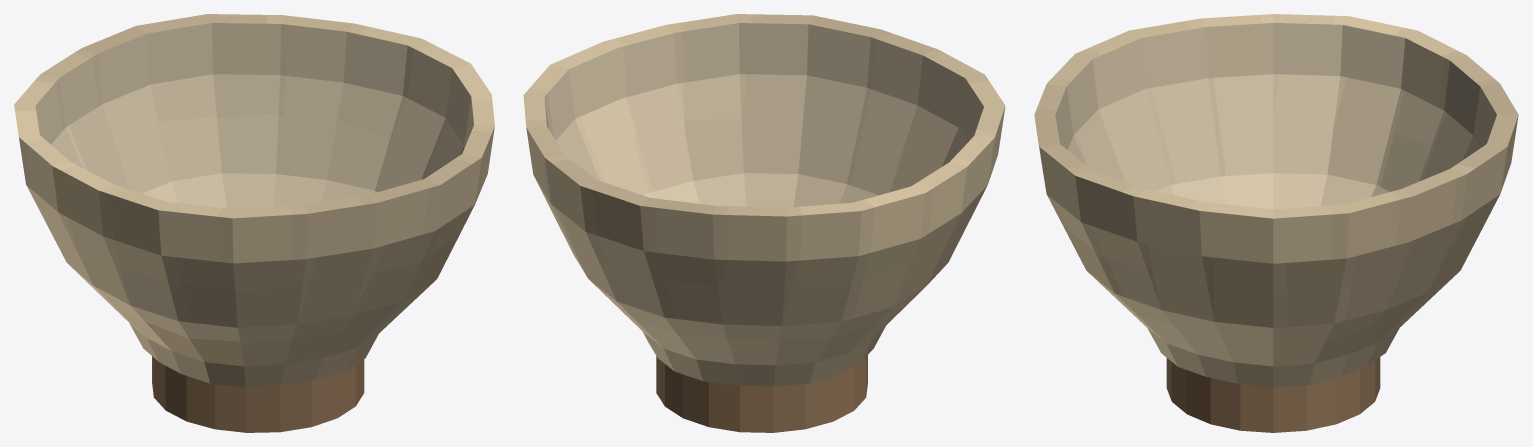
The model's file is antique-hagi-bowl.glb.
3 views of the same model, side by side, from view 1: azimuth 30°, elevation 25°; view 2: azimuth 150°, elevation 25°; view 3: azimuth 270°, elevation 25° (orthographic).
Visible parts, largest first — view 1: antique-hagi-bowl/vessel-7, antique-hagi-bowl/vessel-3, antique-hagi-bowl/vessel-6, antique-hagi-bowl/vessel-4, antique-hagi-bowl/vessel-5, antique-hagi-bowl/vessel-2, antique-hagi-bowl/ring-foot-1, antique-hagi-bowl/vessel-8, antique-hagi-bowl/vessel-1; view 2: antique-hagi-bowl/vessel-7, antique-hagi-bowl/vessel-3, antique-hagi-bowl/vessel-6, antique-hagi-bowl/vessel-4, antique-hagi-bowl/vessel-5, antique-hagi-bowl/ring-foot-1, antique-hagi-bowl/vessel-2, antique-hagi-bowl/vessel-8, antique-hagi-bowl/vessel-1; view 3: antique-hagi-bowl/vessel-7, antique-hagi-bowl/vessel-3, antique-hagi-bowl/vessel-6, antique-hagi-bowl/vessel-4, antique-hagi-bowl/vessel-5, antique-hagi-bowl/vessel-2, antique-hagi-bowl/ring-foot-1, antique-hagi-bowl/vessel-8, antique-hagi-bowl/vessel-1.
Part boxes in pixels (bbox=[...]): antique-hagi-bowl/vessel-7: bbox=[51, 74, 464, 193]; antique-hagi-bowl/vessel-3: bbox=[26, 185, 474, 327]; antique-hagi-bowl/vessel-6: bbox=[35, 23, 473, 147]; antique-hagi-bowl/vessel-4: bbox=[19, 127, 494, 263]; antique-hagi-bowl/vessel-5: bbox=[14, 14, 494, 218]; antique-hagi-bowl/vessel-2: bbox=[69, 265, 435, 366]; antique-hagi-bowl/ring-foot-1: bbox=[152, 356, 364, 432]; antique-hagi-bowl/vessel-8: bbox=[142, 173, 377, 209]; antique-hagi-bowl/vessel-1: bbox=[129, 323, 378, 387]; antique-hagi-bowl/vessel-7: bbox=[556, 74, 967, 195]; antique-hagi-bowl/vessel-3: bbox=[533, 175, 987, 325]; antique-hagi-bowl/vessel-6: bbox=[544, 23, 983, 141]; antique-hagi-bowl/vessel-4: bbox=[526, 107, 1005, 261]; antique-hagi-bowl/vessel-5: bbox=[523, 14, 1005, 216]; antique-hagi-bowl/ring-foot-1: bbox=[656, 355, 867, 432]; antique-hagi-bowl/vessel-2: bbox=[590, 280, 924, 365]; antique-hagi-bowl/vessel-8: bbox=[643, 173, 878, 207]; antique-hagi-bowl/vessel-1: bbox=[642, 326, 885, 386]; antique-hagi-bowl/vessel-7: bbox=[1068, 74, 1480, 191]; antique-hagi-bowl/vessel-3: bbox=[1047, 194, 1499, 327]; antique-hagi-bowl/vessel-6: bbox=[1055, 23, 1496, 149]; antique-hagi-bowl/vessel-4: bbox=[1035, 115, 1518, 263]; antique-hagi-bowl/vessel-5: bbox=[1034, 14, 1518, 218]; antique-hagi-bowl/vessel-2: bbox=[1088, 271, 1459, 366]; antique-hagi-bowl/ring-foot-1: bbox=[1166, 357, 1380, 432]; antique-hagi-bowl/vessel-8: bbox=[1156, 173, 1389, 209]; antique-hagi-bowl/vessel-1: bbox=[1147, 328, 1399, 387].
Size of the model in its own units: 0.5 by 0.311 by 0.5.
Materials: 3 (3 with a texture image).
